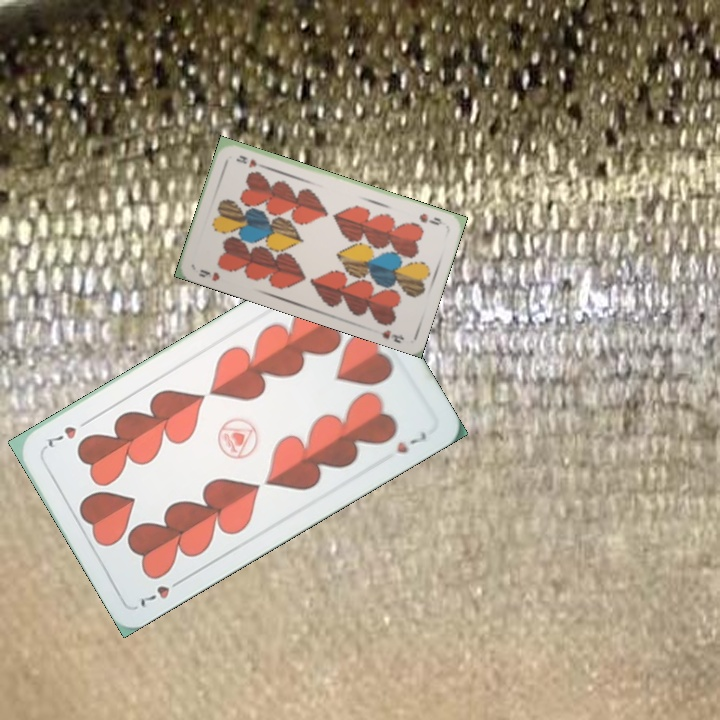H7: (136, 574, 187, 611)
H9: (415, 209, 445, 228), (195, 265, 223, 284)
